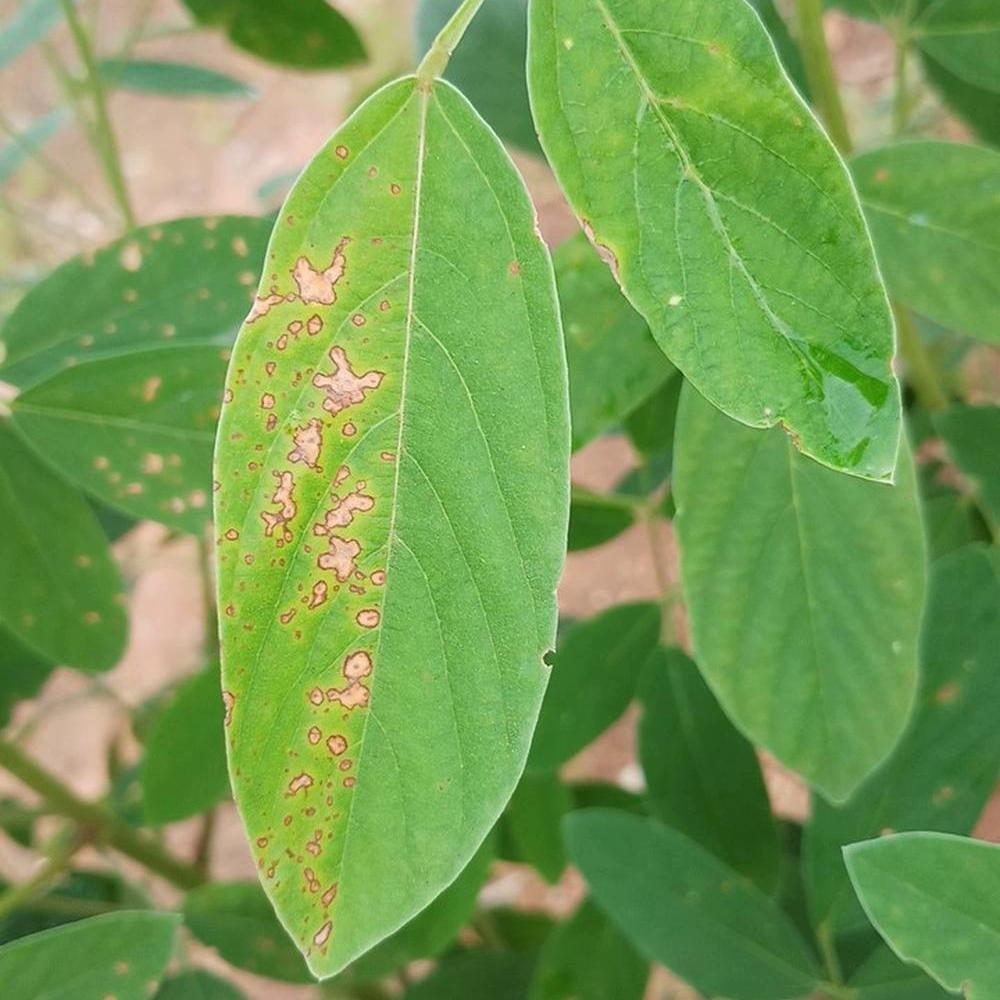black-spot: (249, 619, 387, 876)
